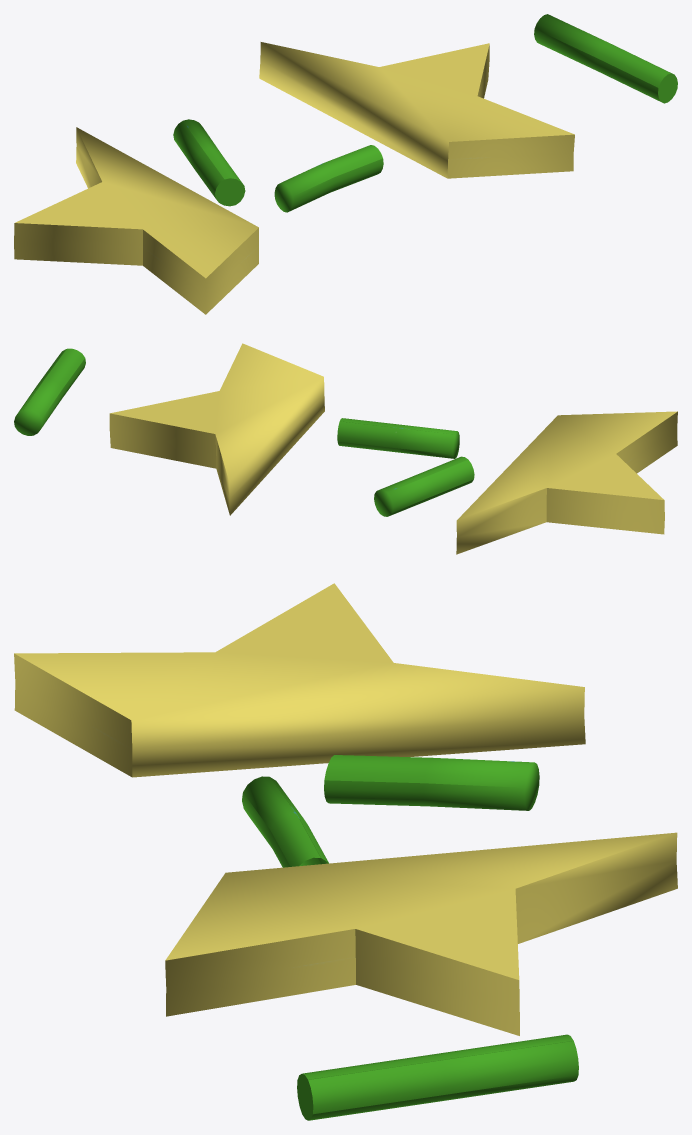
File: EstrelaCadente_cortada.fbx
3 renders of one model, top to bottom at view 1: azimuth 30°, elevation 25°; view 2: azimuth 150°, elevation 25°; view 3: azimuth 270°, elevation 25°, orthographic. The views are drawn at different scales.
Visible parts, largest first — view 1: EstrelaCadente_cortada; view 2: EstrelaCadente_cortada; view 3: EstrelaCadente_cortada.
Boxes of the visible parts, left/top/right/bottom form: EstrelaCadente_cortada: left=14, top=14, right=677, bottom=314; EstrelaCadente_cortada: left=14, top=343, right=677, bottom=554; EstrelaCadente_cortada: left=14, top=583, right=677, bottom=1120.
Size of the model in its own units: 178 by 13.54 by 100.
1 material, 1 textured.
